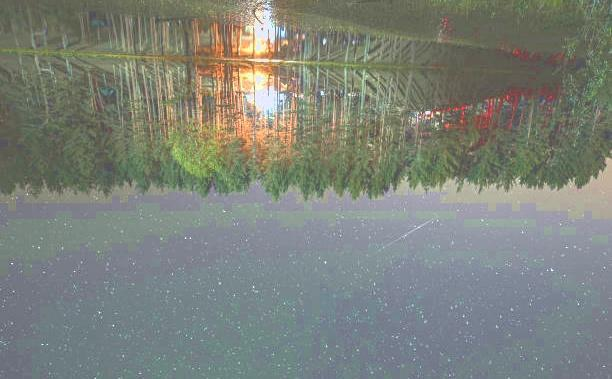meteorite: (370, 216, 443, 249)
